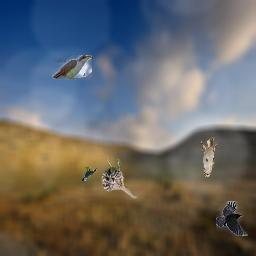Crow: (216, 201, 248, 236), (81, 167, 97, 181)
Cuckoo: (52, 55, 92, 80)
Sparrow: (101, 159, 137, 199), (201, 137, 217, 177)
